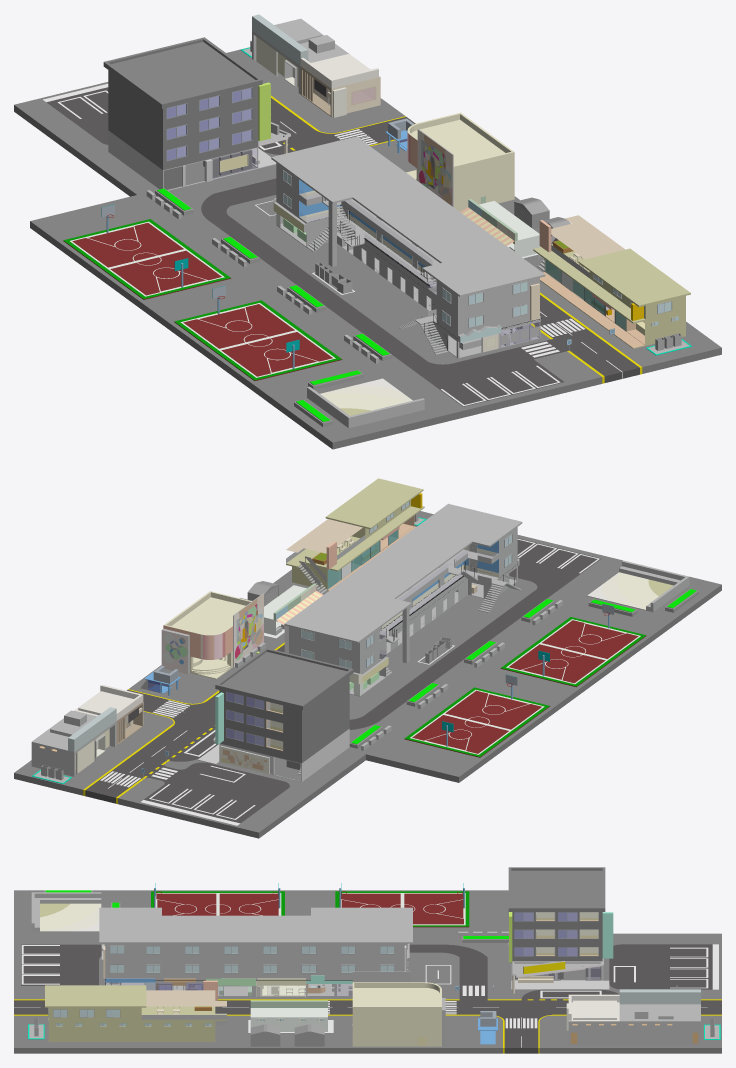
The model's file is map_street.glb.
The picture shows the model from 3 angles, top to bottom: view 1: azimuth 30°, elevation 25°; view 2: azimuth 150°, elevation 25°; view 3: azimuth 270°, elevation 25°; orthographic projection. The views are drawn at different scales.
Visible parts, largest first — view 1: Group77, Model, Group102, Group218, Group179, Group180, Group206, Group98, Group84, Group15; view 2: Group77, Model, Group102, Group218, Group179, Group180, Group206, Group84, Group98; view 3: Model, Group77, Group102, Group218, Group180, Group179, Group206, Group40, Group11, Group36, Group34, Group44 (+1 smaller).
Boxes of the visible parts, left/top/right/bottom form: Group77: left=14, top=47, right=721, bottom=449; Model: left=63, top=14, right=691, bottom=428; Group102: left=271, top=136, right=545, bottom=338; Group218: left=103, top=37, right=262, bottom=149; Group179: left=276, top=184, right=539, bottom=339; Group180: left=276, top=163, right=539, bottom=316; Group206: left=108, top=109, right=258, bottom=170; Group98: left=428, top=322, right=501, bottom=357; Group84: left=273, top=198, right=346, bottom=247; Group15: left=499, top=321, right=540, bottom=348; Group77: left=14, top=511, right=721, bottom=838; Model: left=31, top=478, right=698, bottom=784; Group102: left=284, top=503, right=522, bottom=668; Group218: left=215, top=648, right=353, bottom=744; Group179: left=289, top=545, right=517, bottom=674; Group180: left=289, top=527, right=517, bottom=660; Group206: left=220, top=710, right=349, bottom=763; Group84: left=349, top=657, right=388, bottom=696; Group98: left=456, top=559, right=519, bottom=599; Model: left=28, top=890, right=720, bottom=1046; Group77: left=14, top=890, right=721, bottom=1053; Group102: left=99, top=907, right=412, bottom=980; Group218: left=508, top=867, right=605, bottom=945; Group180: left=105, top=943, right=406, bottom=961; Group179: left=105, top=962, right=406, bottom=980; Group206: left=511, top=945, right=602, bottom=963; Group40: left=206, top=978, right=255, bottom=996; Group11: left=155, top=978, right=203, bottom=990; Group36: left=256, top=980, right=306, bottom=996; Group34: left=256, top=978, right=306, bottom=997; Group44: left=306, top=984, right=352, bottom=996.
Size of the model in its own units: 2815 by 671 by 5337.
